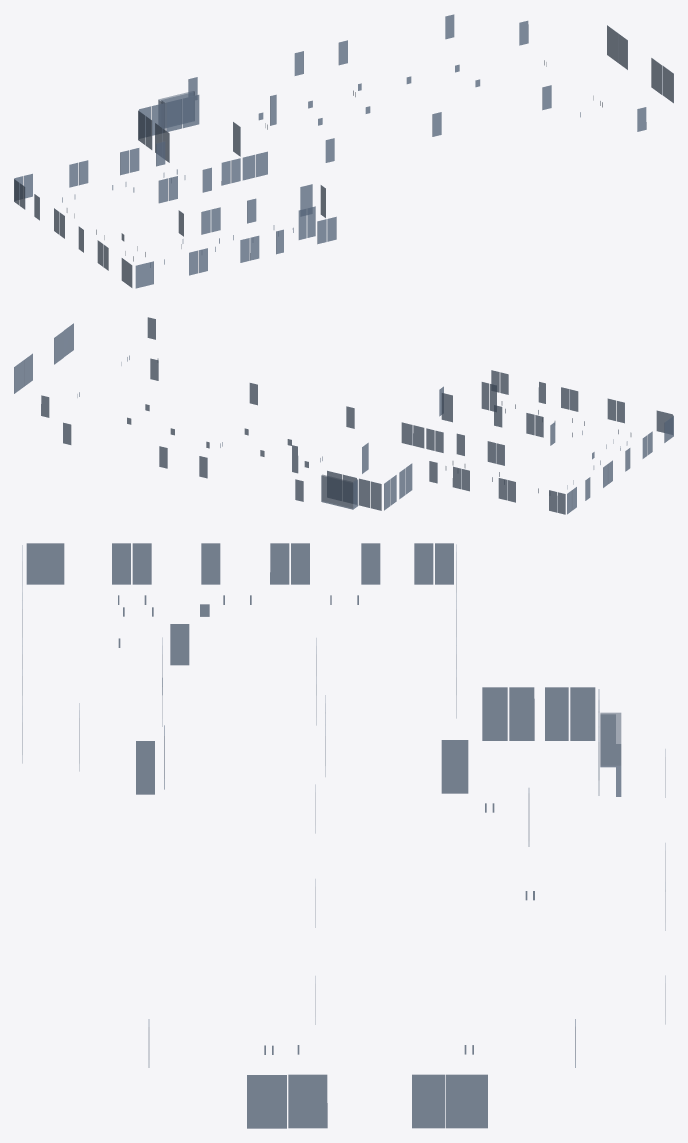
Rendered from envSecondFloor_Windows.fbx.
3 views of the same model, one above another, from view 1: azimuth 30°, elevation 25°; view 2: azimuth 150°, elevation 25°; view 3: azimuth 270°, elevation 25° (orthographic). The views are drawn at different scales.
Visible parts, largest first — view 1: envSecondFloor_Windows; view 2: envSecondFloor_Windows; view 3: envSecondFloor_Windows.
Part boxes in pixels (x1,y1,x2,y2): envSecondFloor_Windows: (14,14,673,288); envSecondFloor_Windows: (14,317,673,514); envSecondFloor_Windows: (22,543,665,1128).
Bounding box in the file's own units: 7561 × 361 × 3869.
